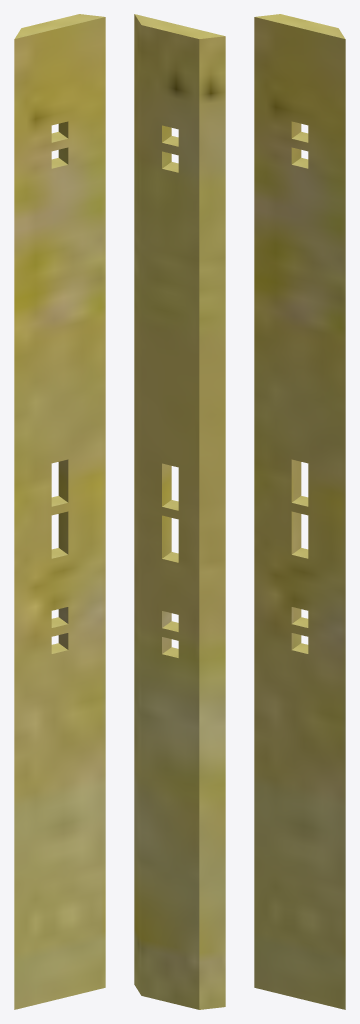
Rendered from original-9.obj.
3 renders of one model, left to right at view 1: azimuth 30°, elevation 25°; view 2: azimuth 150°, elevation 25°; view 3: azimuth 330°, elevation 25°, orthographic.
Parts seen in each view (by area): view 1: Leg_pt1/Leg_pt/mesh18/mesh18-geometry#mesh18-geometry; view 2: Leg_pt1/Leg_pt/mesh18/mesh18-geometry#mesh18-geometry; view 3: Leg_pt1/Leg_pt/mesh18/mesh18-geometry#mesh18-geometry.
Part boxes in pixels (x1,y1,x2,y2): Leg_pt1/Leg_pt/mesh18/mesh18-geometry#mesh18-geometry: (14, 14, 105, 1009); Leg_pt1/Leg_pt/mesh18/mesh18-geometry#mesh18-geometry: (134, 14, 225, 1009); Leg_pt1/Leg_pt/mesh18/mesh18-geometry#mesh18-geometry: (254, 14, 345, 1009).
Size of the model in its own units: 0.1 by 1.02 by 0.0182.
